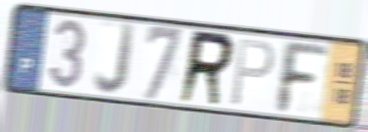3: (46, 16, 87, 92)
7: (143, 23, 186, 105)
F: (275, 37, 330, 117)
J: (92, 20, 138, 99)
P: (228, 37, 277, 109)
R: (176, 27, 237, 109)
